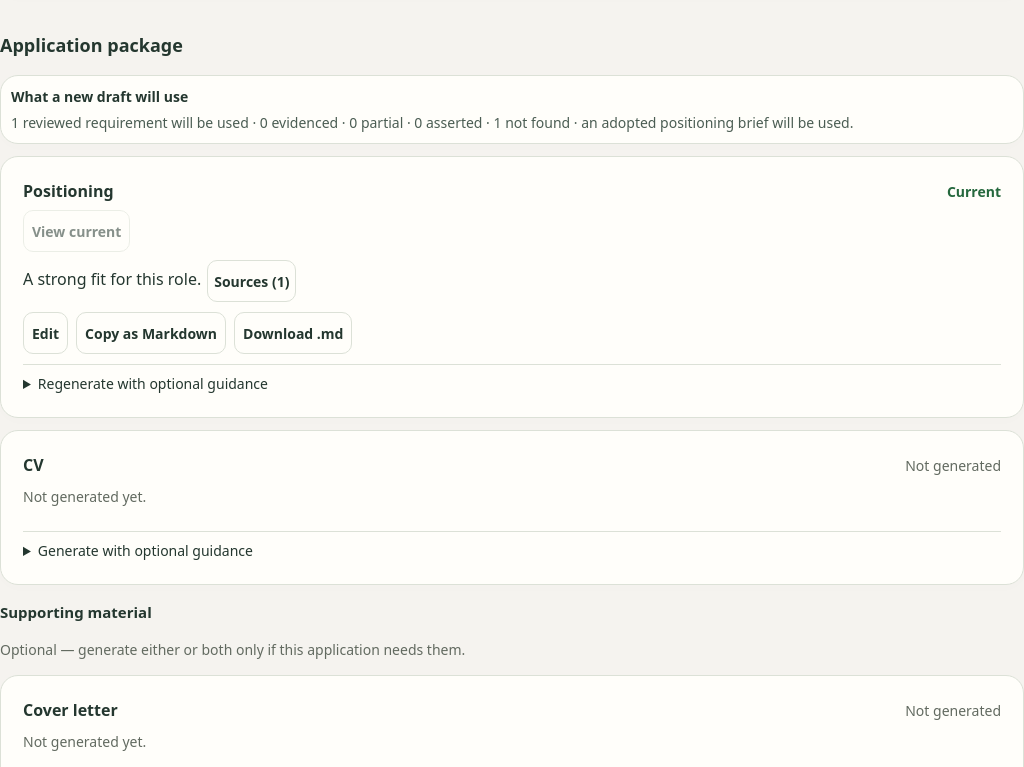
Test case: Application package (Phase 4, docs/35) › generation failure leaves existing current content usable
(page scrolled)
Expected: the text "Current" is shown, [947, 182, 1001, 203]
Click the heading "Regenerate with optional guidance": (153, 384) [38, 374, 268, 393]
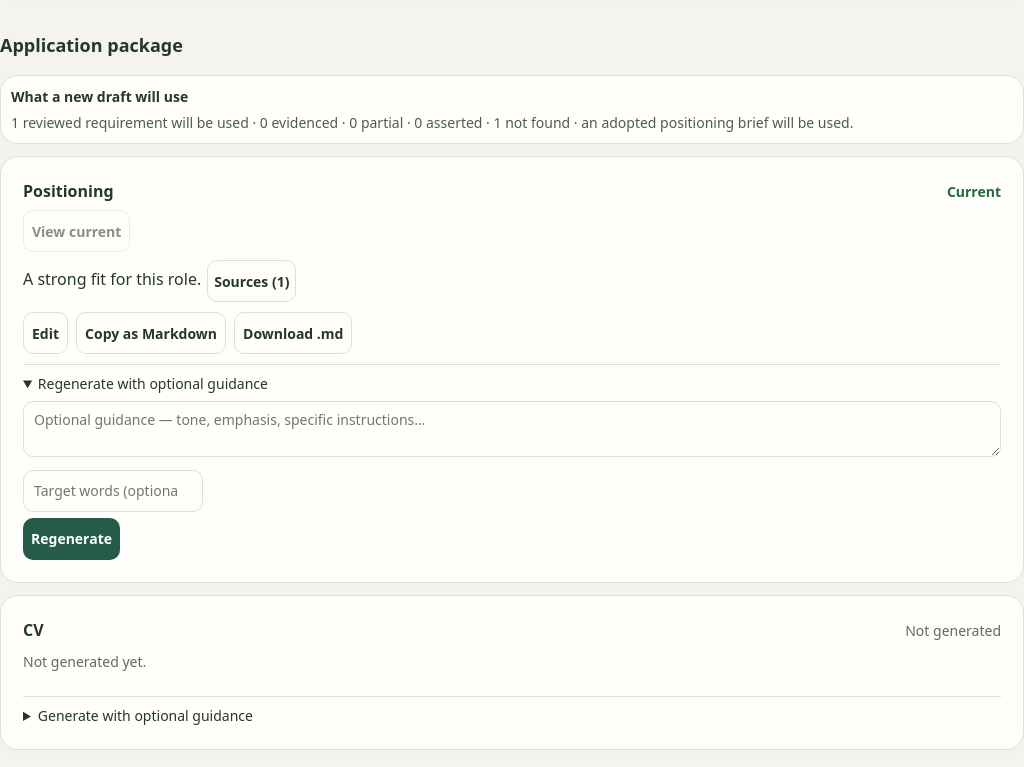
Click the button "Regenerate": (72, 539) [23, 518, 120, 560]
(page scrolled)
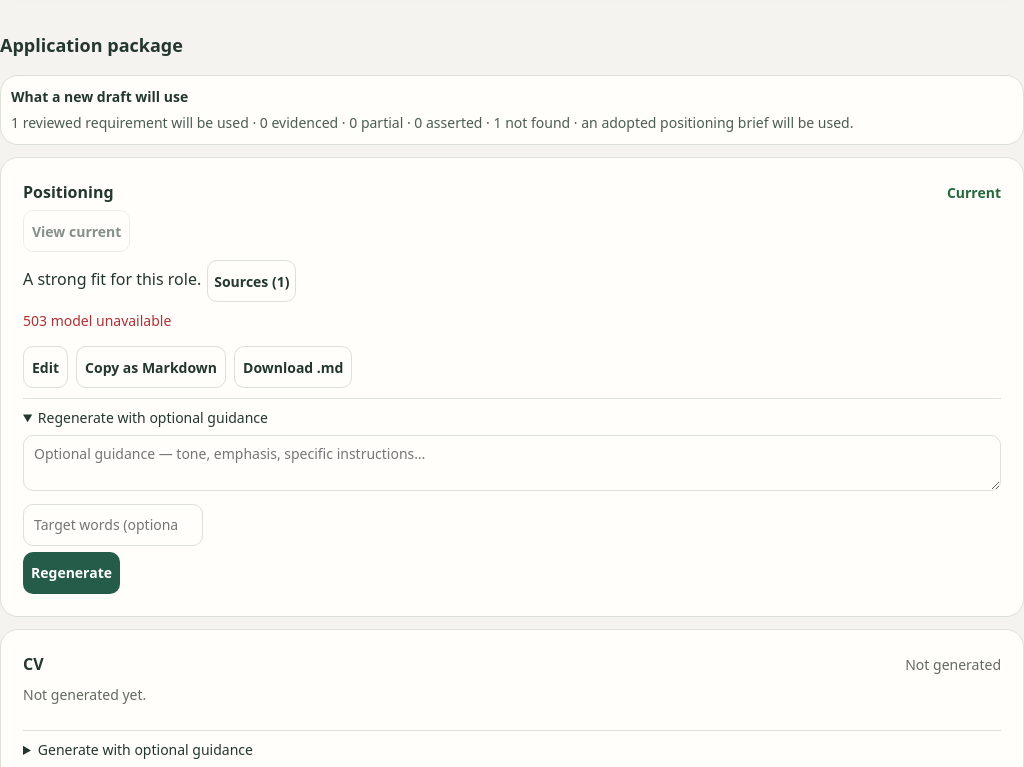
Expected: the text "A strong fit for this role." is shown, [23, 269, 201, 291]
Expected: the text "503 model unavailable" is shown, [23, 311, 171, 330]
